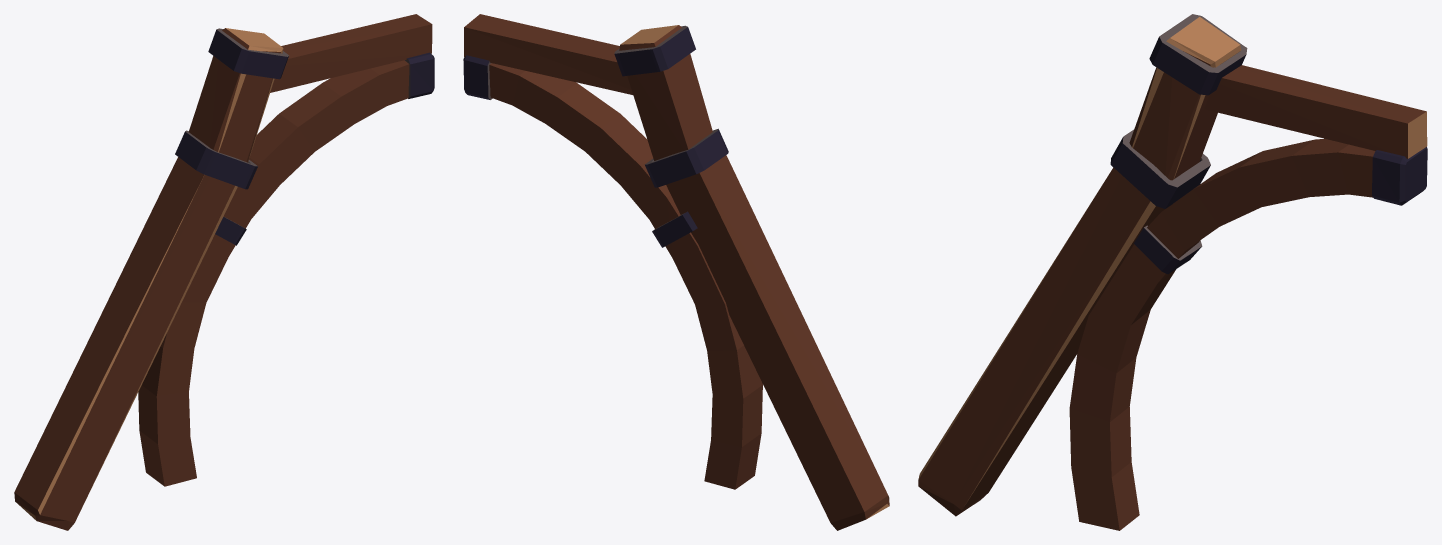
Rendered from MCastle_InteriorSupports_02.FBX.
3 views of the same model, side by side, from view 1: azimuth 30°, elevation 25°; view 2: azimuth 150°, elevation 25°; view 3: azimuth 330°, elevation 25° (orthographic). The views are drawn at different scales.
Parts seen in each view (by area): view 1: MCastle_InteriorSupports_02_LOD0; view 2: MCastle_InteriorSupports_02_LOD0; view 3: MCastle_InteriorSupports_02_LOD0.
Part boxes in pixels (box(x1,y1,x2,y2)): MCastle_InteriorSupports_02_LOD0: box(14, 14, 434, 530); MCastle_InteriorSupports_02_LOD0: box(463, 14, 889, 530); MCastle_InteriorSupports_02_LOD0: box(918, 14, 1427, 530).
Size of what is drawn, in the model's own units: 213 by 224 by 29.3.
